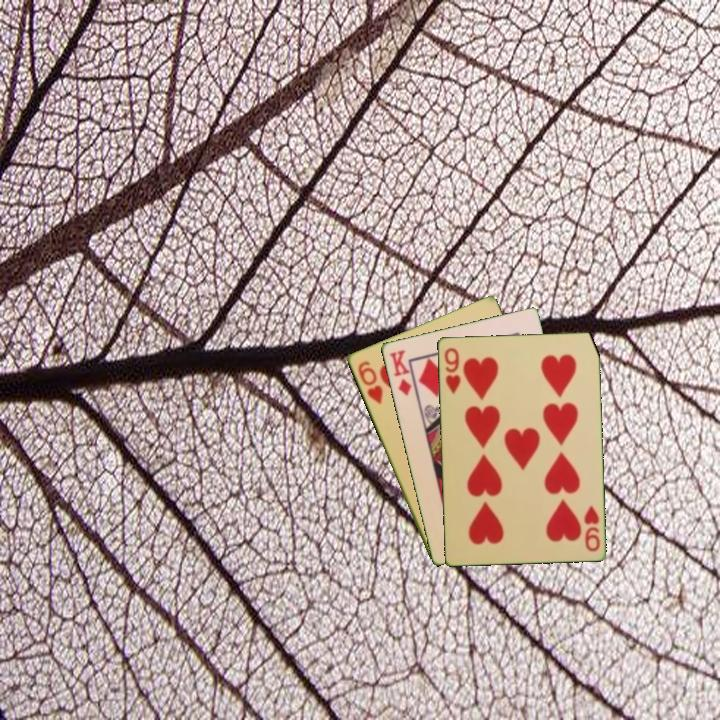6h: (354, 357, 386, 407)
9h: (580, 501, 602, 554), (441, 344, 463, 396)
Kd: (385, 346, 414, 398)
